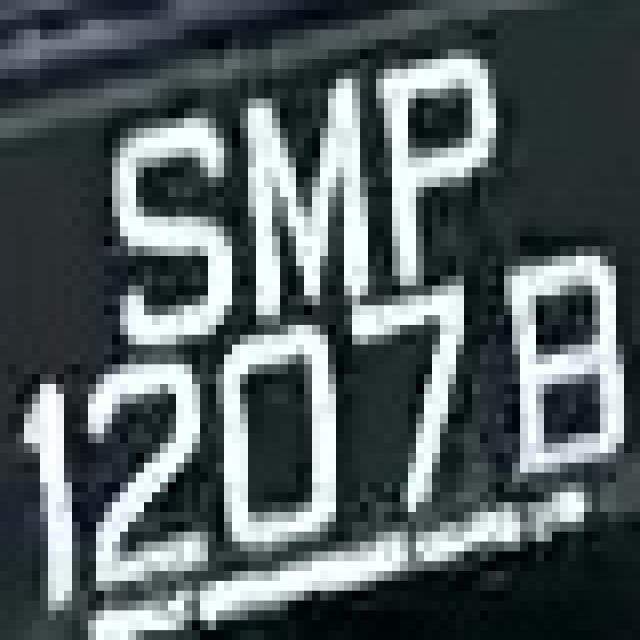0: (184, 315, 352, 581)
1: (0, 5, 1, 10)
2: (80, 286, 232, 590)
7: (320, 295, 480, 512)
B: (496, 246, 632, 502)
M: (208, 79, 408, 295)
P: (360, 59, 520, 305)
S: (96, 88, 248, 354)
